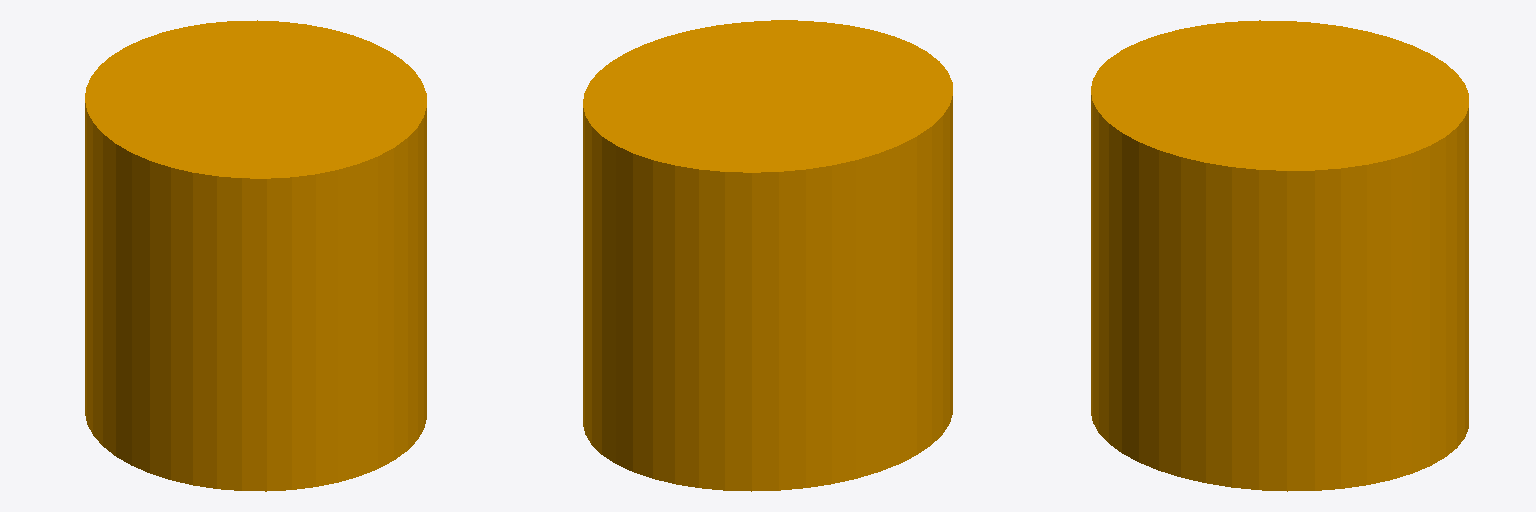
The robot description file, URDF, robot "object":
<?xml version="1.0"?>
<robot name="object">
  <link name="object">
    <visual>
      <origin xyz="0 0 0"/>
      <geometry>
        <mesh filename="meshes/generated/col_043.obj" scale="0.03 0.03 0.03"/>
      </geometry>
    </visual>
    <collision>
      <origin xyz="0 0 0"/>
      <geometry>
        <mesh filename="meshes/generated/col_043.obj" scale="0.03 0.03 0.03"/>
      </geometry>
    </collision>
    <inertial>
      <density value="1000.0"/>
    </inertial>
  </link>
</robot>

--- Facts derived from the render (not from the file) ---
3 views of the same robot in one strip: view 1: azimuth 30°, elevation 25°; view 2: azimuth 150°, elevation 25°; view 3: azimuth 270°, elevation 25° (orthographic).
Model object with 1 links and 0 joints (none), rooted at object, posed every joint at zero.
Links seen in each view (by area): view 1: object; view 2: object; view 3: object.
Boxes of the visible links, left/top/right/bottom form: object: left=85, top=20, right=426, bottom=491; object: left=583, top=20, right=952, bottom=491; object: left=1091, top=20, right=1468, bottom=491.
Bounding box of the posed robot: 0.0604 × 0.0642 × 0.06 m (x, y, z).
Meshes: 1 distinct files referenced, 1 mesh visuals loaded (1 OBJ).
